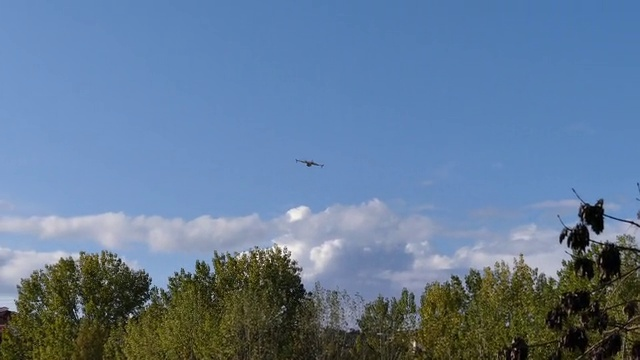plane: (295, 158, 324, 170)
